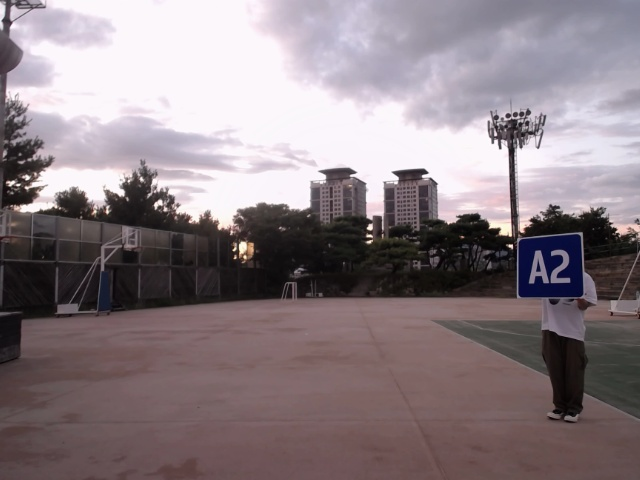delivery_a2: (517, 233, 584, 299)
